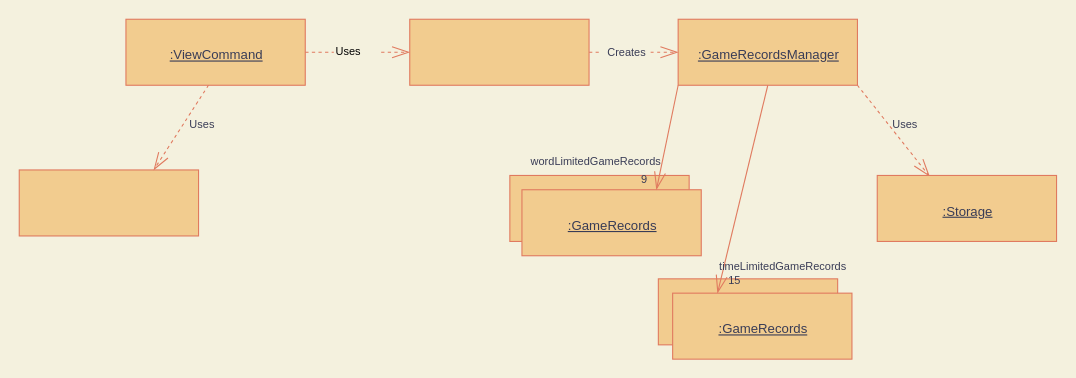
Image size: 1076x378. Some labels were removed from this diagram. The centre of each missing label's shape, as x and y in pixels:
:StatisitcsManager: the point at 499,51
:ViewCommandUi: the point at 108,202
